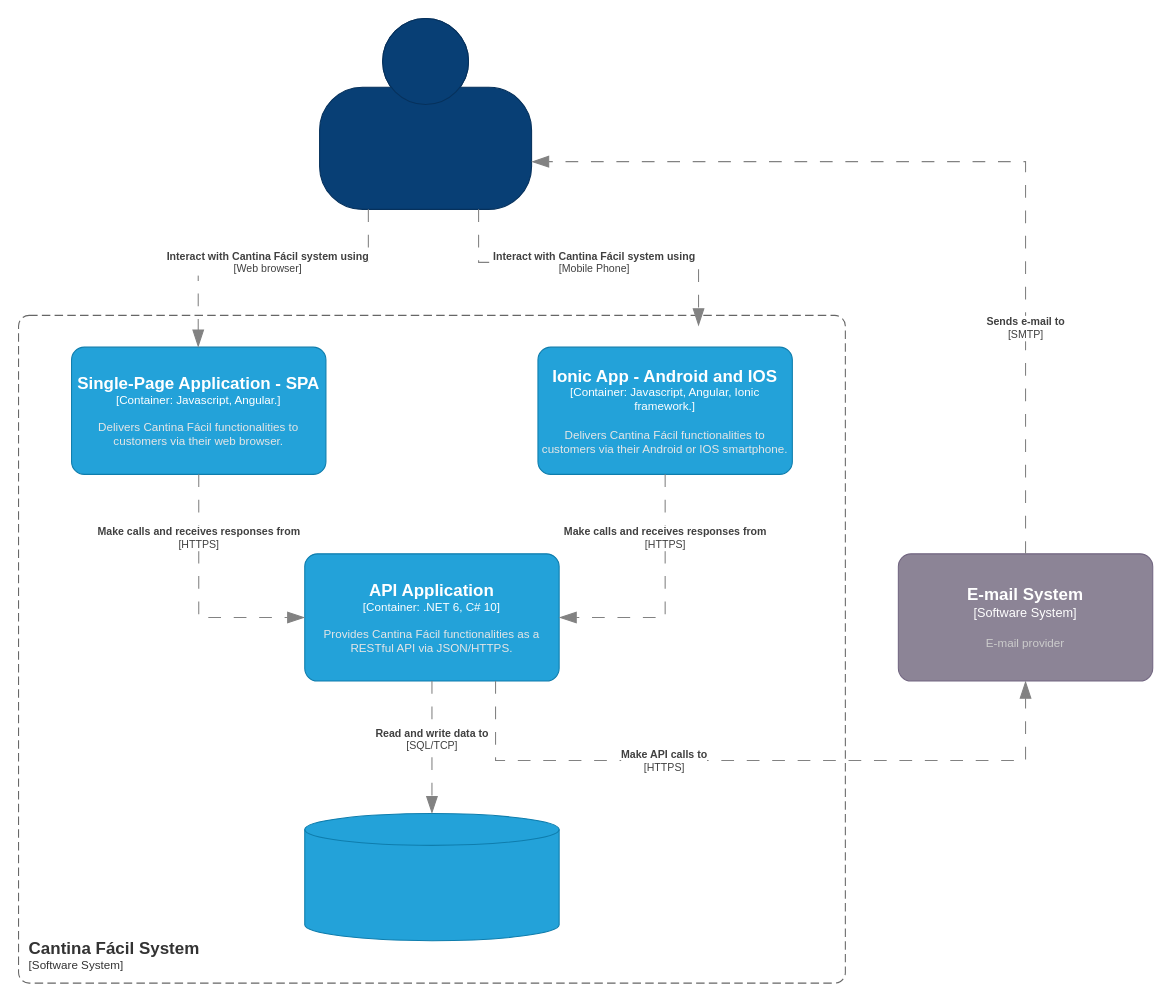
Image size: 1171x1002. Some labels were removed from this diagram. Each missing label, with the centre of its shape:
Customer [Person] Cantina, Tutor ou Aluno.: point 425,113
MySQL database [Container: MySQL] Database hosted in cloud.: point 431,876
